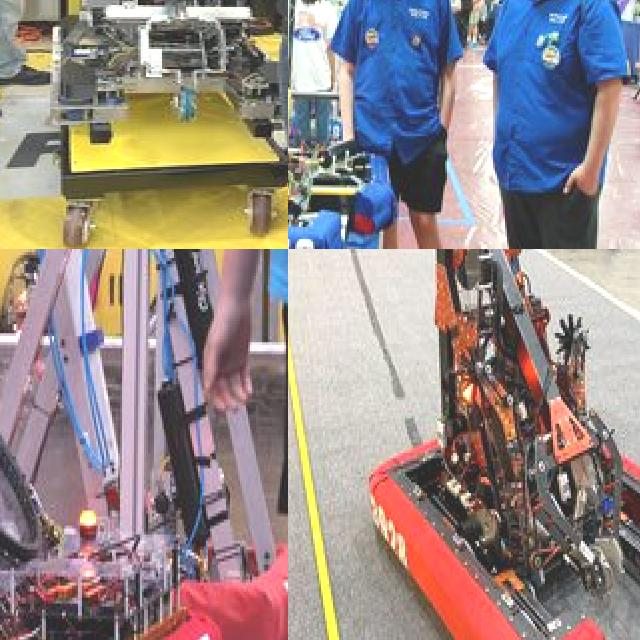FRC-Robots: (318, 249, 640, 640), (0, 249, 261, 640), (0, 0, 288, 178), (288, 0, 427, 249)
